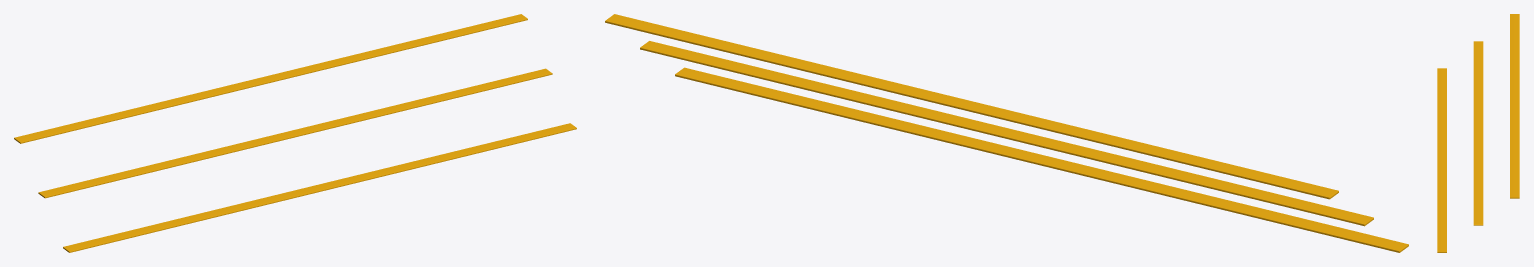
Rendered from gteki_ik_stair_n3_r167_t202_w2436_nosing.glb.
3 renders of one model, left to right at view 1: azimuth 30°, elevation 25°; view 2: azimuth 150°, elevation 25°; view 3: azimuth 270°, elevation 25°, orthographic. The views are drawn at different scales.
Parts seen in each view (by area): view 1: VIS_nosings; view 2: VIS_nosings; view 3: VIS_nosings.
Boxes of the visible parts, box(x1,y1,x2,y2) form: VIS_nosings: box(14, 14, 576, 252); VIS_nosings: box(605, 14, 1408, 252); VIS_nosings: box(1437, 14, 1519, 252).
Bounding box in the file's own units: 2.42 × 0.34 × 0.459.
